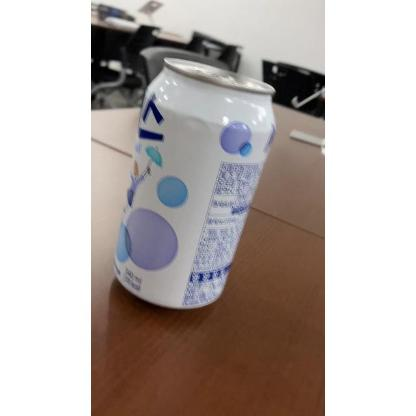Can: (113, 57, 277, 308)
